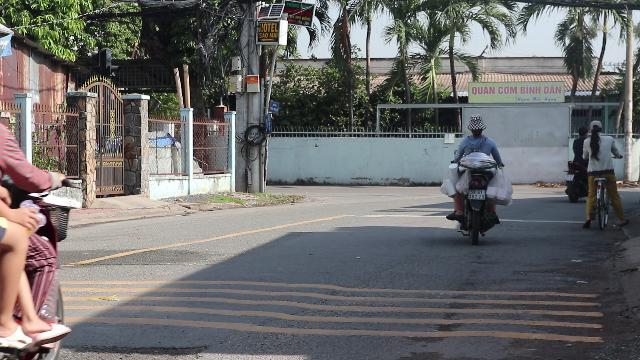licenseplate: (469, 189, 485, 199)
motorcyclist: (440, 112, 512, 241)
nohelmet: (466, 113, 486, 135)
